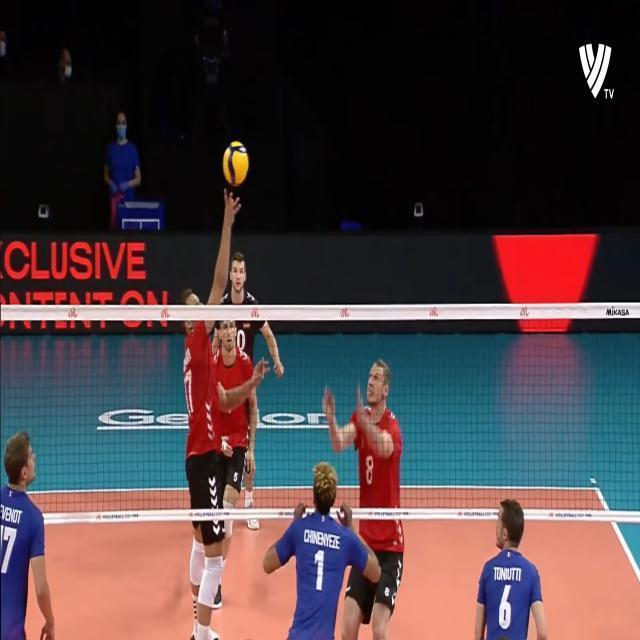volleyball: (222, 140, 250, 186)
